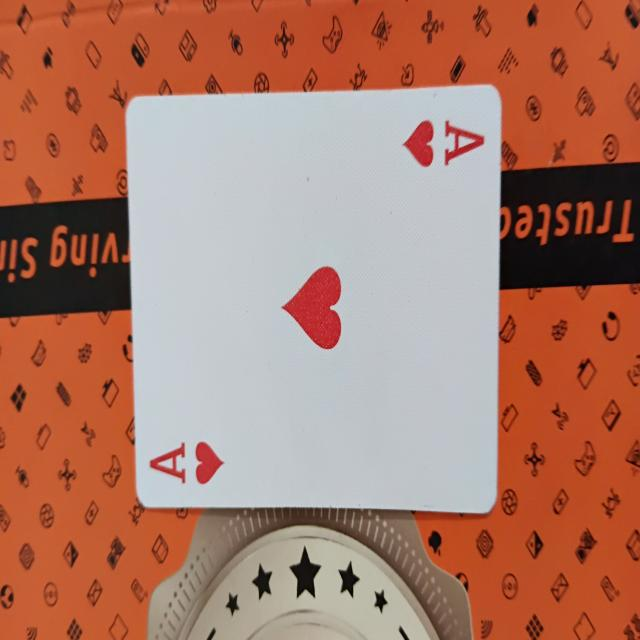AH: (127, 95, 497, 513)
